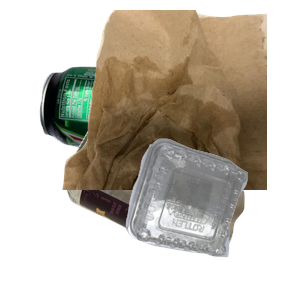glass: (62, 120, 300, 300)
metal: (37, 64, 245, 214)
plastic: (123, 136, 300, 300)
trash: (60, 10, 300, 190)
